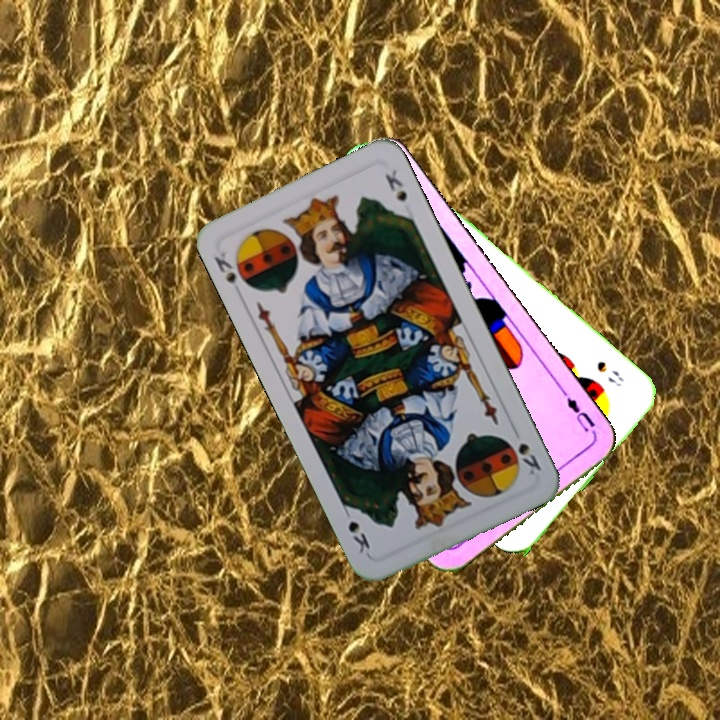EU: (558, 387, 598, 435)
S8: (592, 356, 627, 390)
SK: (209, 248, 254, 293), (508, 423, 544, 478)
